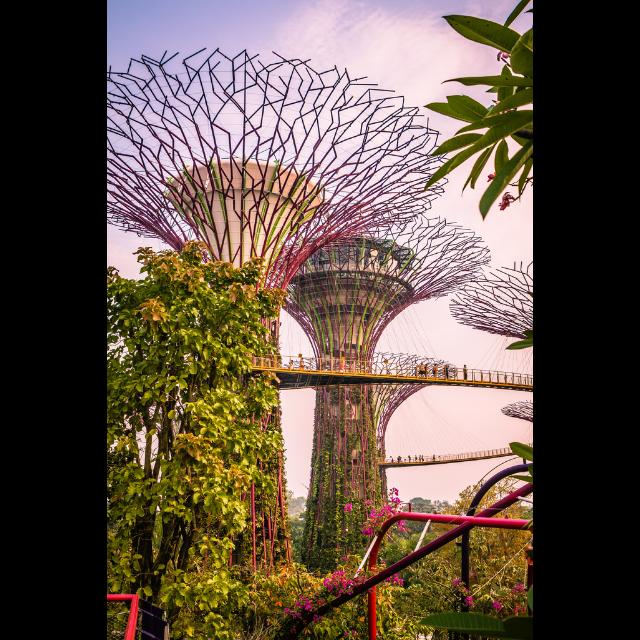Flower: (280, 566, 402, 634), (360, 484, 408, 536), (489, 582, 526, 612), (342, 502, 354, 514), (462, 596, 476, 606), (451, 578, 459, 588)
